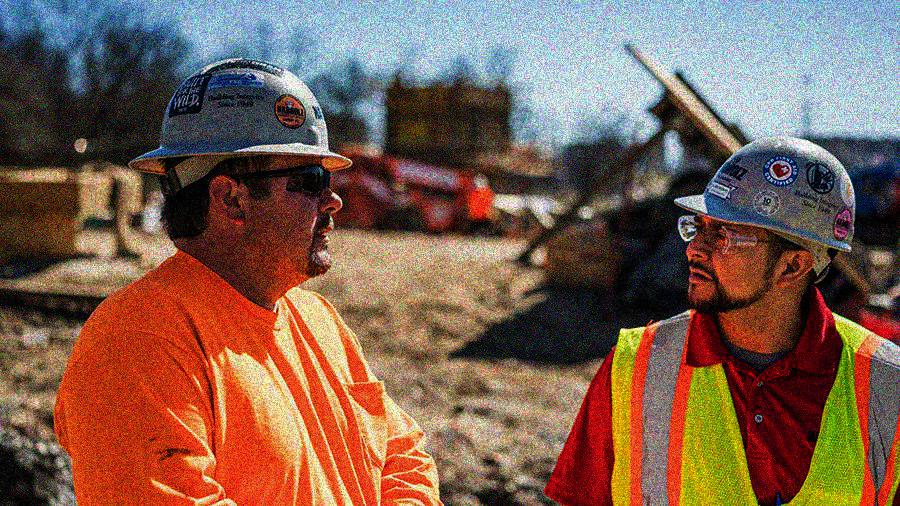helmet: (127, 56, 350, 278), (672, 135, 858, 309)
